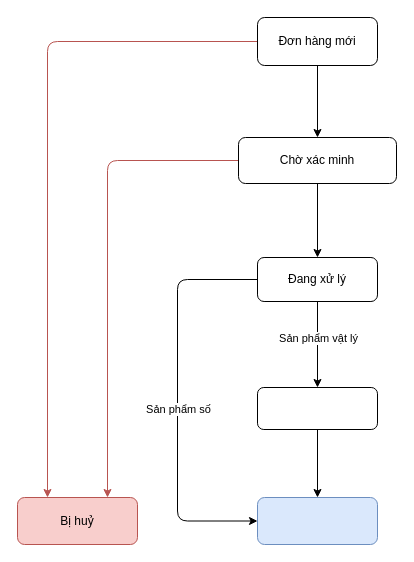
Some shapes in this 414 by 562 pixel diagram are drawn without their labels. Here are the shapes that lost their labels. From the top down, the box of each, then its label:
(256, 386, 378, 430): Đang vận chuyển
(256, 496, 378, 544): Hoàn tất
